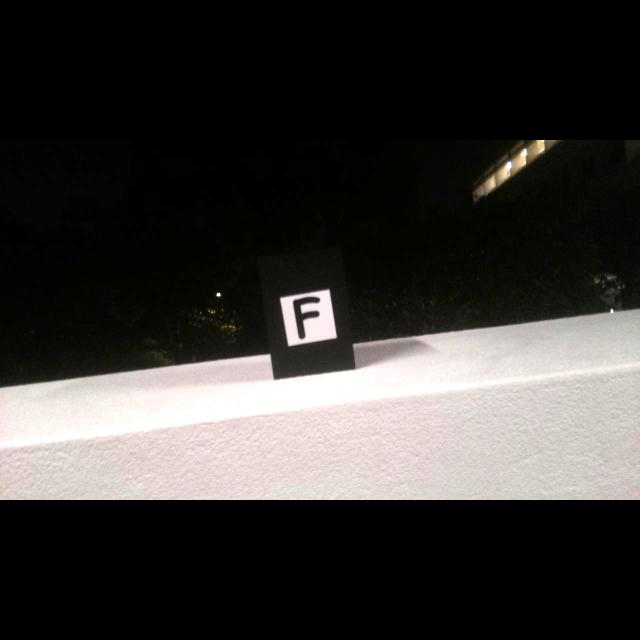F: (293, 296, 321, 340)
